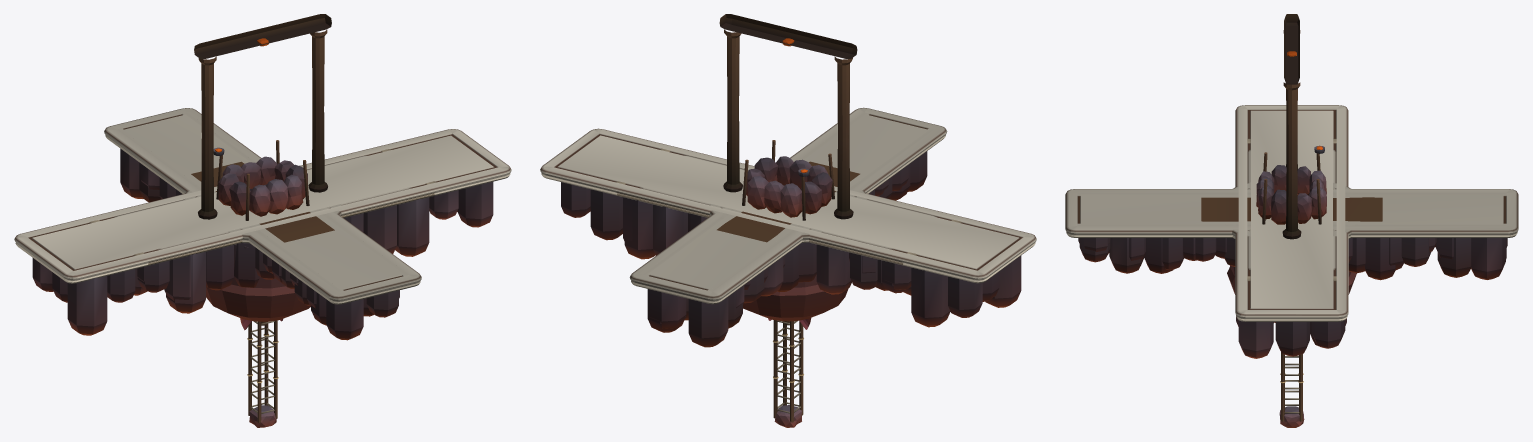
Rendered from volcano-1-D5XkBkpG.glb.
The picture shows the model from 3 angles, left to right: view 1: azimuth 30°, elevation 25°; view 2: azimuth 150°, elevation 25°; view 3: azimuth 270°, elevation 25°; orthographic projection. The views are drawn at different scales.
Parts seen in each view (by area): view 1: block_44x2x10#1, block_9x2x40_grate#0, pressFrame_9x6x4x7#0, block_8x2x40_grate#0, hopper_4x3#0, block_30x2x10_column#0, disc_14x1.5#0, truss_20#0, beam_5x1.5x16_plank#1, block_26x2x8_grate#1; view 2: block_44x2x10#1, block_9x2x40_grate#0, pressFrame_9x6x4x7#0, hopper_4x3#0, block_8x2x40_grate#0, block_30x2x10_column#0, disc_14x1.5#0, truss_20#0, beam_5x1.5x16_plank#1, block_26x2x8_grate#1; view 3: block_44x2x10#1, block_9x2x40_grate#0, block_8x2x40_grate#0, hopper_4x3#0, pressFrame_9x6x4x7#0, beam_5x1.5x16_plank#1, truss_20#0, disc_14x1.5#0, block_26x2x8_grate#1.
Part boxes in pixels (bbox=[...]): block_44x2x10#1: bbox=[14, 129, 511, 335]; block_9x2x40_grate#0: bbox=[104, 108, 421, 308]; pressFrame_9x6x4x7#0: bbox=[194, 14, 331, 219]; block_8x2x40_grate#0: bbox=[117, 112, 411, 340]; hopper_4x3#0: bbox=[213, 140, 309, 220]; block_30x2x10_column#0: bbox=[89, 149, 436, 313]; disc_14x1.5#0: bbox=[183, 184, 341, 321]; truss_20#0: bbox=[247, 320, 278, 427]; beam_5x1.5x16_plank#1: bbox=[191, 161, 334, 242]; block_26x2x8_grate#1: bbox=[114, 155, 412, 250]; block_44x2x10#1: bbox=[540, 128, 1036, 327]; block_9x2x40_grate#0: bbox=[629, 107, 947, 347]; pressFrame_9x6x4x7#0: bbox=[719, 14, 857, 219]; hopper_4x3#0: bbox=[742, 140, 834, 220]; block_8x2x40_grate#0: bbox=[640, 112, 933, 328]; block_30x2x10_column#0: bbox=[615, 148, 962, 295]; disc_14x1.5#0: bbox=[709, 184, 867, 321]; truss_20#0: bbox=[773, 320, 803, 427]; beam_5x1.5x16_plank#1: bbox=[717, 161, 859, 242]; block_26x2x8_grate#1: bbox=[639, 155, 937, 290]; block_44x2x10#1: bbox=[1235, 105, 1348, 358]; block_9x2x40_grate#0: bbox=[1065, 189, 1518, 280]; block_8x2x40_grate#0: bbox=[1077, 193, 1506, 277]; hopper_4x3#0: bbox=[1256, 145, 1326, 224]; pressFrame_9x6x4x7#0: bbox=[1282, 14, 1301, 239]; beam_5x1.5x16_plank#1: bbox=[1201, 197, 1382, 221]; truss_20#0: bbox=[1279, 352, 1304, 427]; disc_14x1.5#0: bbox=[1225, 183, 1358, 322]; block_26x2x8_grate#1: bbox=[1247, 149, 1336, 270].
Bounding box in the file's own units: 44 × 37.13 × 40.
